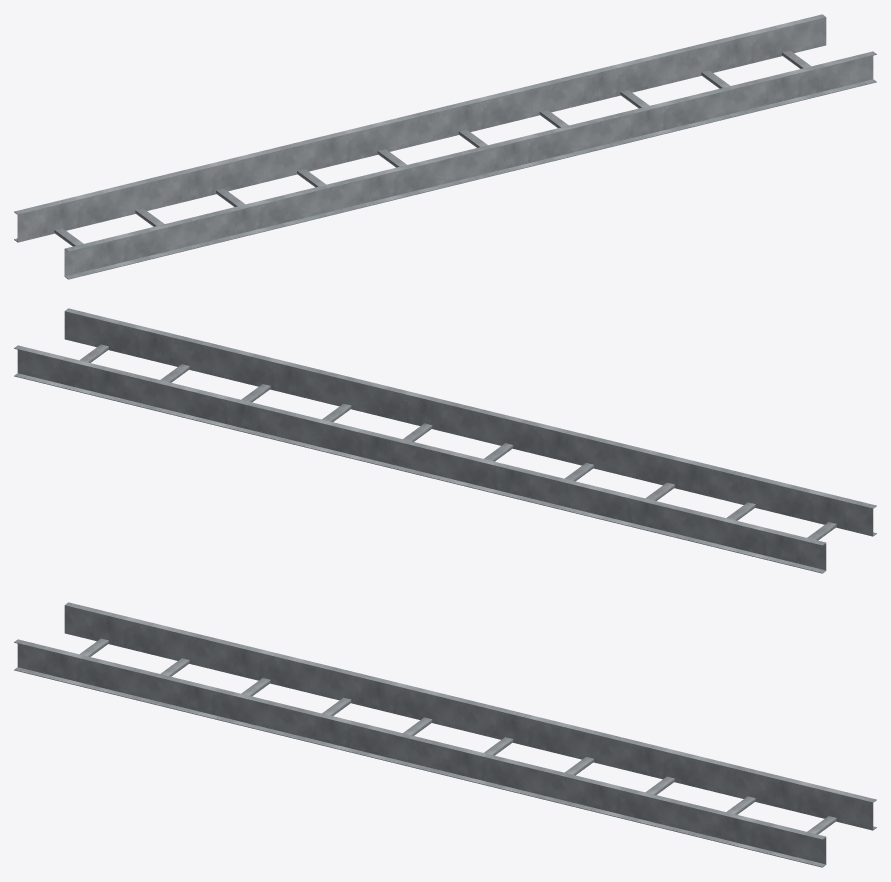
The model's file is ELE-ELD-007_lod1.glb.
3 renders of one model, top to bottom at view 1: azimuth 30°, elevation 25°; view 2: azimuth 150°, elevation 25°; view 3: azimuth 330°, elevation 25°, orthographic.
Visible parts, largest first — view 1: ELE-ELD-007_longarina-1, ELE-ELD-007_longarina1; view 2: ELE-ELD-007_longarina1, ELE-ELD-007_longarina-1; view 3: ELE-ELD-007_longarina-1, ELE-ELD-007_longarina1.
Boxes of the visible parts, x1,y1,x2,y2 form: ELE-ELD-007_longarina-1: (64, 51, 876, 279); ELE-ELD-007_longarina1: (14, 14, 826, 242); ELE-ELD-007_longarina1: (14, 345, 826, 573); ELE-ELD-007_longarina-1: (64, 308, 876, 536); ELE-ELD-007_longarina-1: (14, 639, 826, 867); ELE-ELD-007_longarina1: (64, 602, 876, 830).
Size of the model in its own units: 3 by 0.1 by 0.3501.
1 material, 1 textured.
